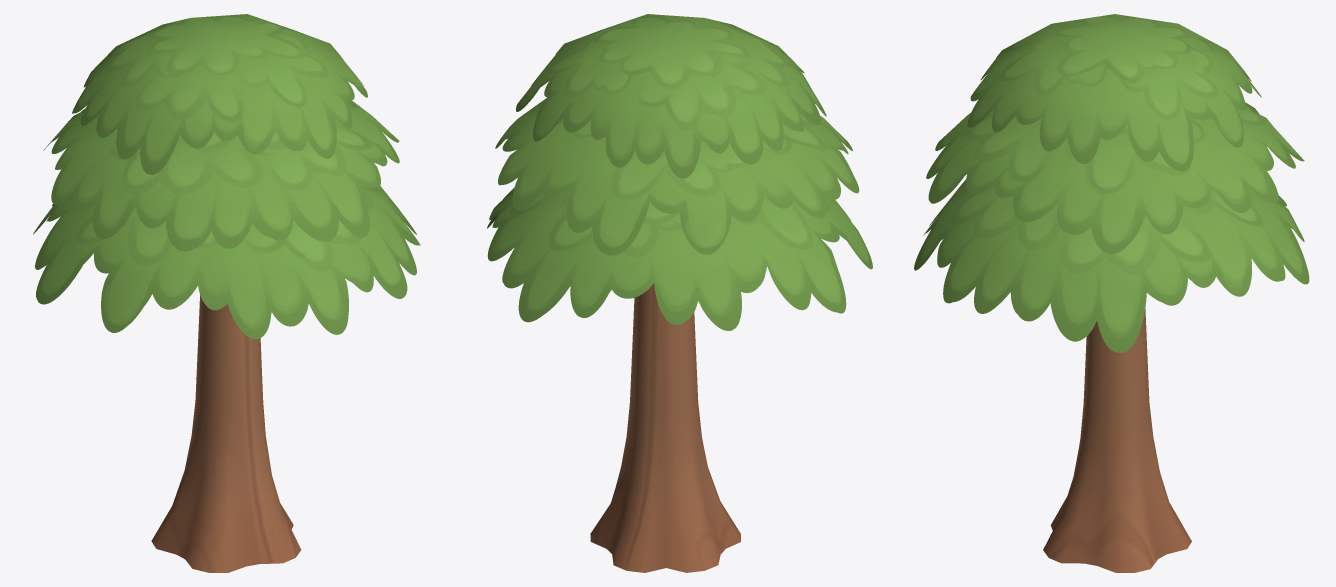
The model's file is elyseTree_2.fbx.
The picture shows the model from 3 angles, left to right: view 1: azimuth 30°, elevation 25°; view 2: azimuth 150°, elevation 25°; view 3: azimuth 270°, elevation 25°; orthographic projection.
Parts seen in each view (by area): view 1: foliage_lowP.002, trunk_lowP.002; view 2: foliage_lowP.002, trunk_lowP.002; view 3: foliage_lowP.002, trunk_lowP.002.
Boxes of the visible parts, bbox=[...] form: foliage_lowP.002: bbox=[33, 14, 420, 339]; trunk_lowP.002: bbox=[151, 295, 301, 572]; foliage_lowP.002: bbox=[487, 14, 872, 330]; trunk_lowP.002: bbox=[590, 283, 740, 572]; foliage_lowP.002: bbox=[914, 14, 1309, 352]; trunk_lowP.002: bbox=[1043, 309, 1191, 572].
Size of the model in its own units: 134 by 180 by 134.
2 materials, 2 textured.
